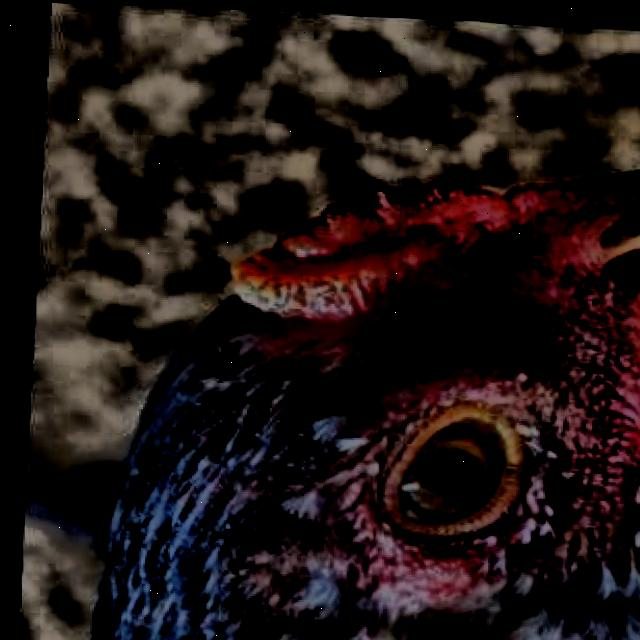Healthy: (370, 368, 532, 564)
